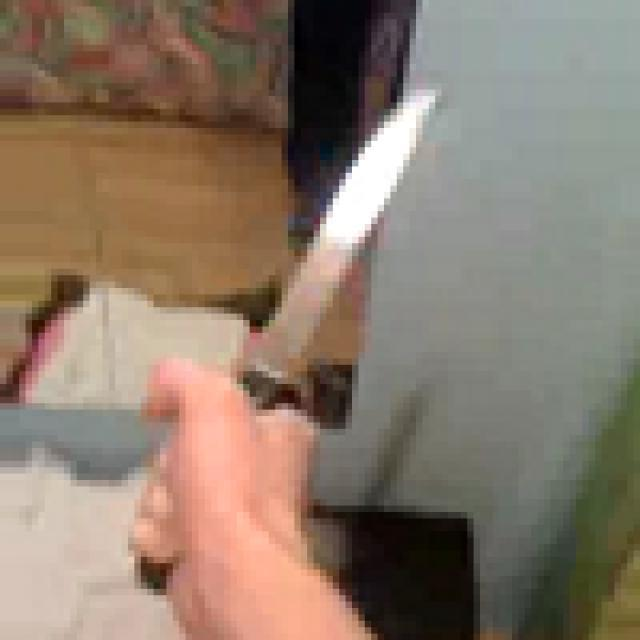Knife: (116, 64, 454, 576)
